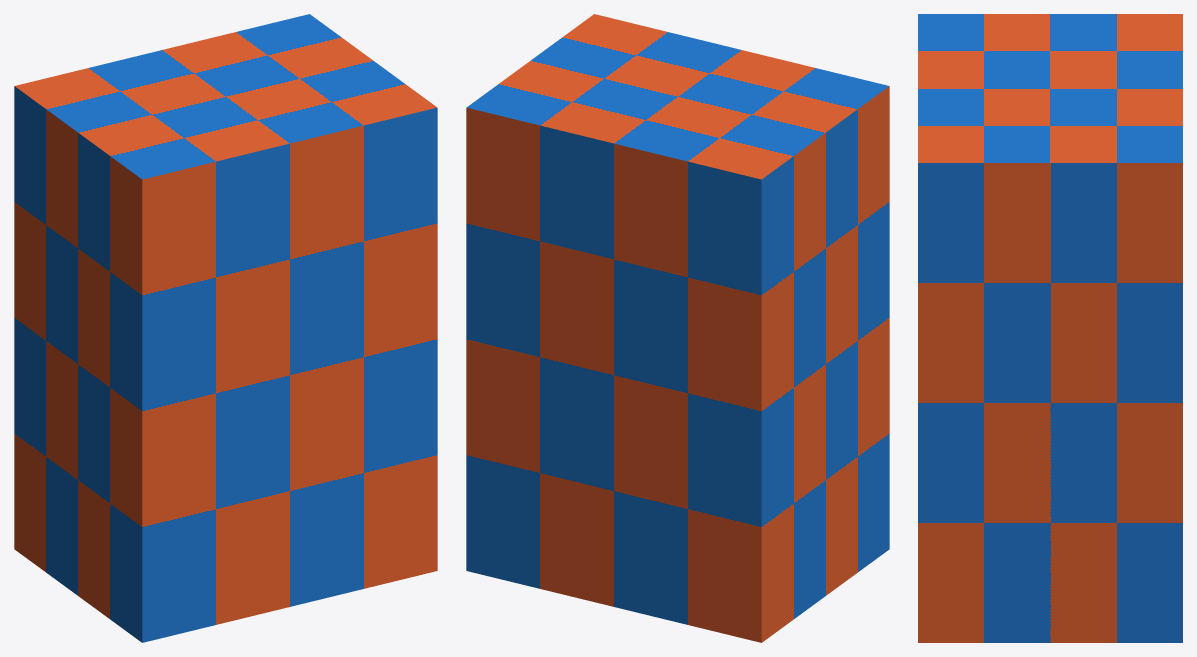
The model's file is calibration.glb.
The picture shows the model from 3 angles, left to right: view 1: azimuth 30°, elevation 25°; view 2: azimuth 150°, elevation 25°; view 3: azimuth 270°, elevation 25°; orthographic projection. The views are drawn at different scales.
Parts seen in each view (by area): view 1: CalibrationCube; view 2: CalibrationCube; view 3: CalibrationCube.
Boxes of the visible parts, bbox=[...] form: CalibrationCube: bbox=[14, 14, 437, 642]; CalibrationCube: bbox=[466, 14, 889, 642]; CalibrationCube: bbox=[918, 14, 1182, 642].
Bounding box in the file's own units: 2 × 3 × 1.5.
Materials: 1 (1 with a texture image).
